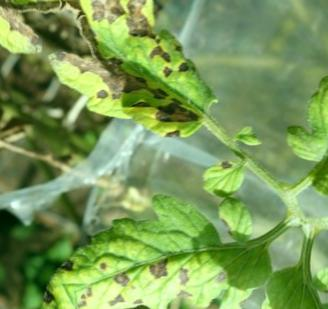Tomato Septoria leaf spot: (45, 137, 295, 309), (32, 0, 266, 166), (262, 61, 328, 201)
